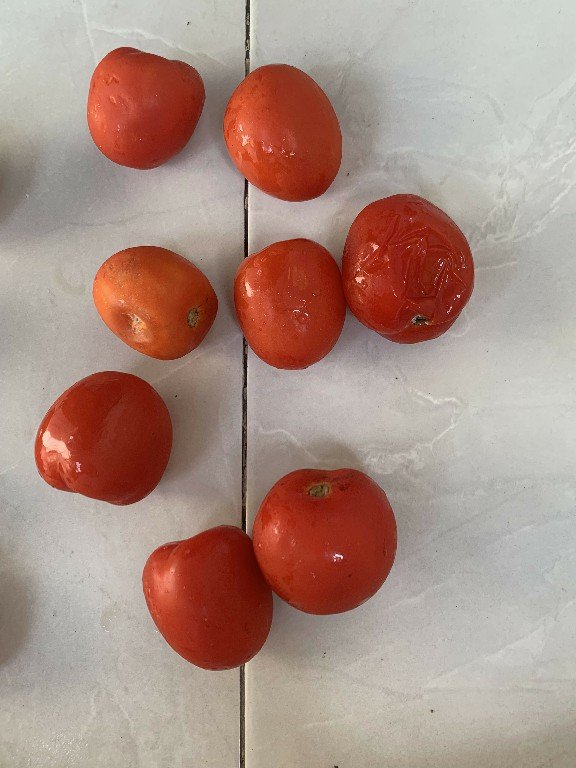NG: (338, 186, 476, 351), (89, 239, 221, 360)
OK: (253, 458, 410, 620), (25, 369, 175, 506), (138, 523, 274, 670), (217, 57, 341, 207), (228, 231, 348, 376), (78, 44, 205, 170)
